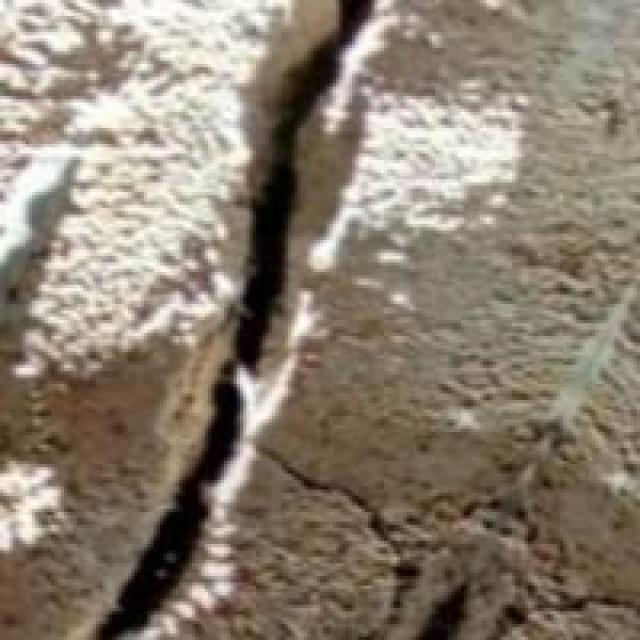crack: (96, 0, 400, 637)
